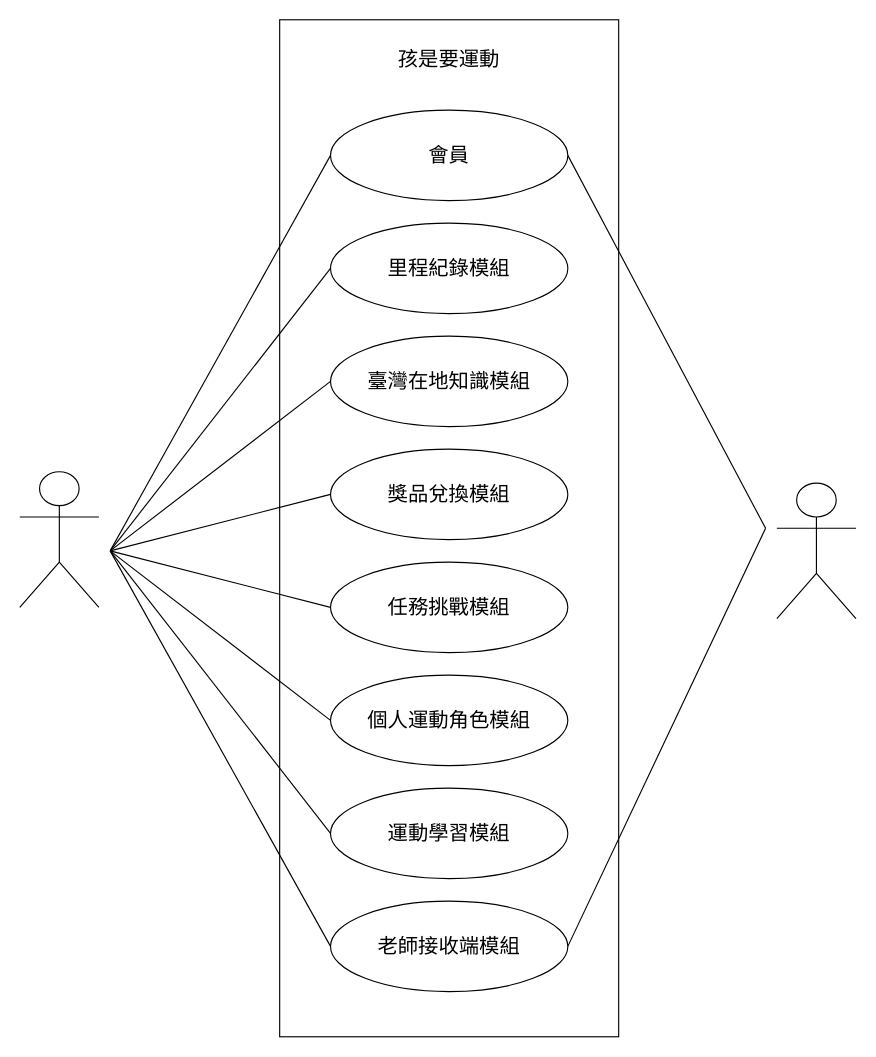
Some shapes in this 876 by 1057 pixel diagram are drawn without their labels. The centre of each missing label's shape, as x and y in pixels:
學生: pixel 59 539
老師: pixel 816 550
